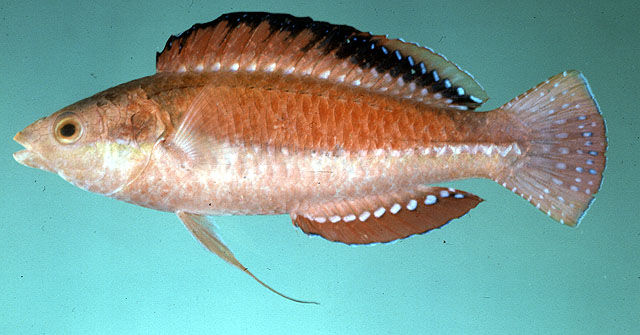fish: (13, 10, 609, 306)
